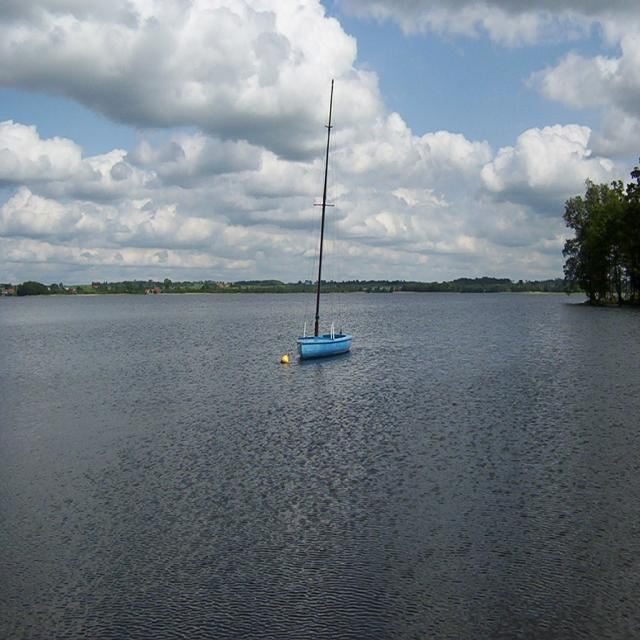Boat: (272, 89, 380, 373)
